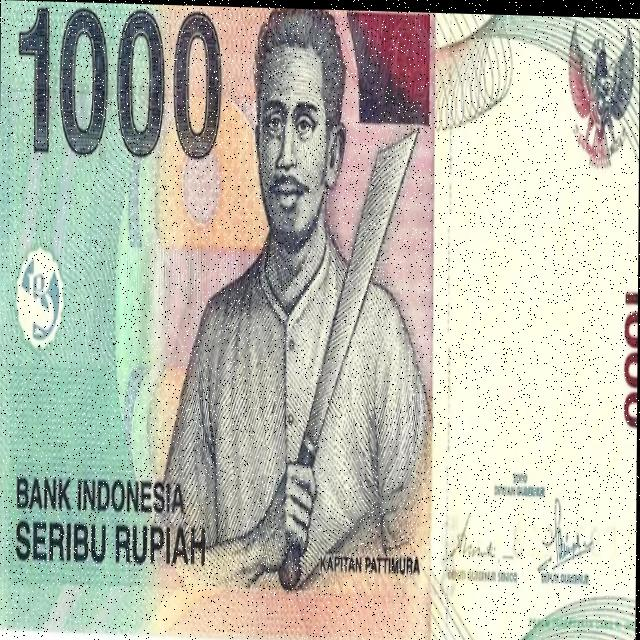1000IndonesianRupiah: (0, 0, 640, 631)
